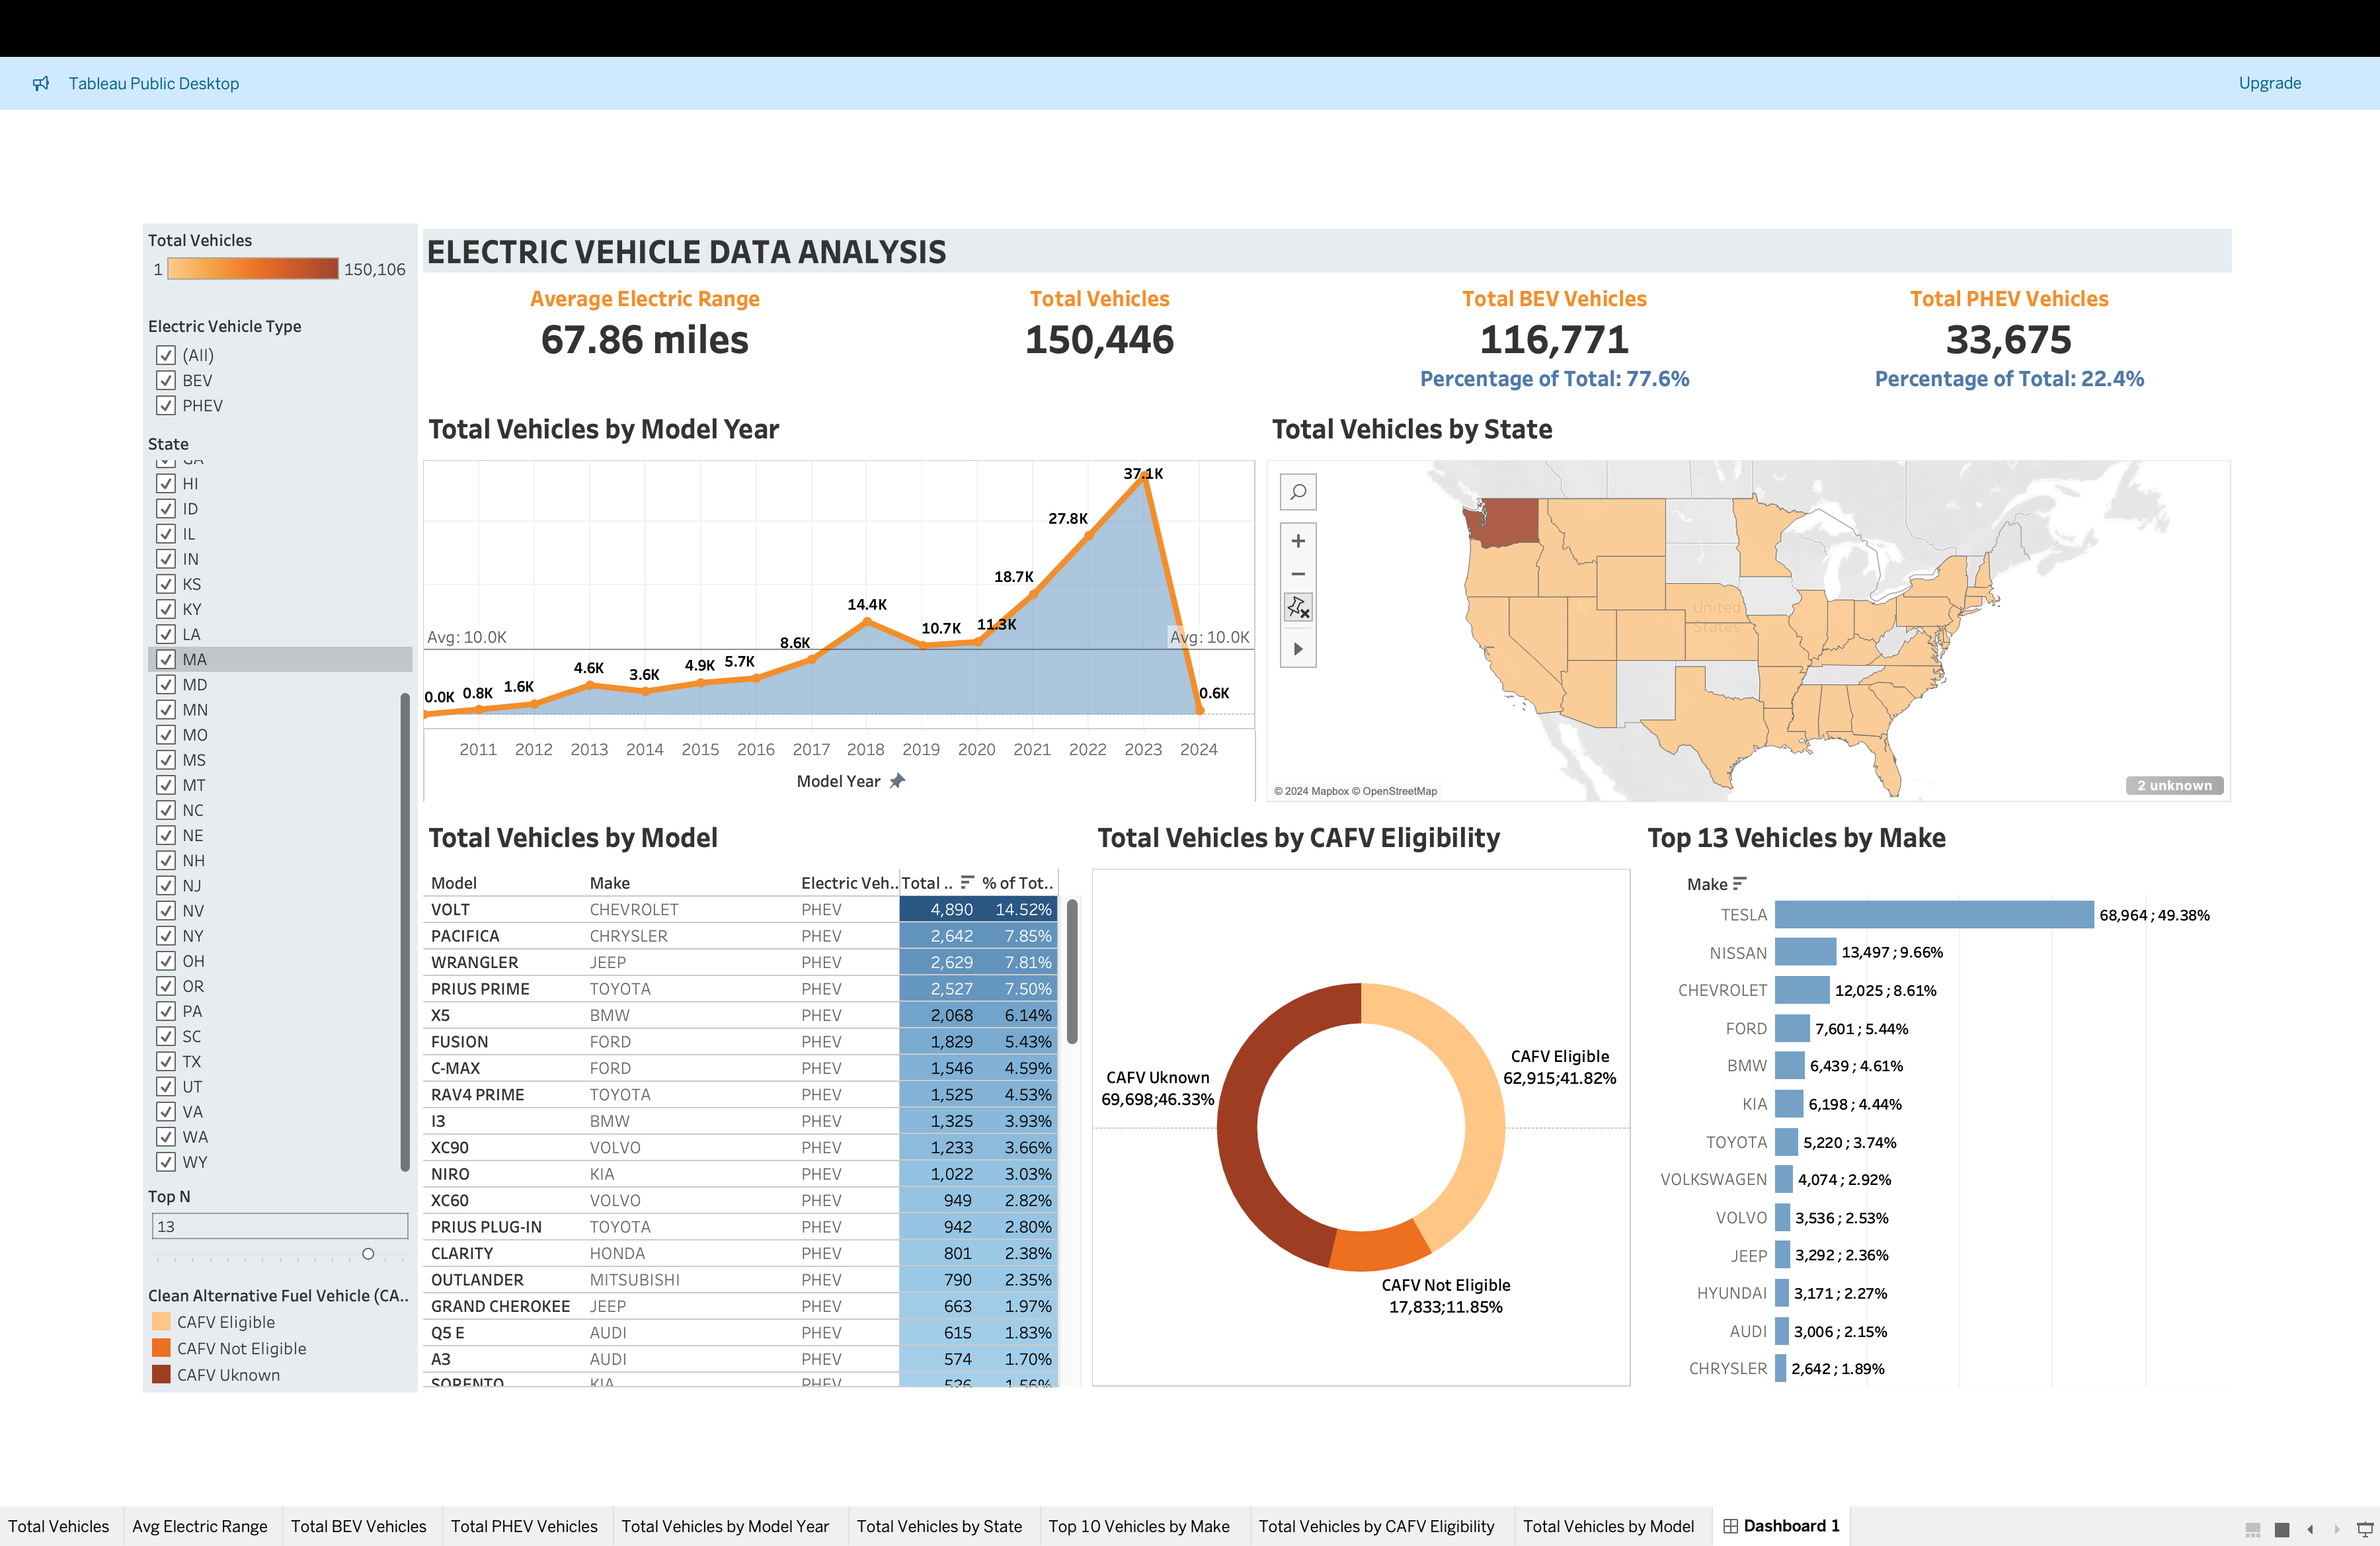

What the dashboard file says about the page in this screenshot:
{"tool":"tableau","page":{"name":"Dashboard 1","canvas":[1600,900],"ordinal":0},"visuals":[{"type":"legend","title":"Total Vehicles by State","param":"[federated.1nlnumq1s7noxl1czyt3a1d1x379].[usr:Calculation_4701687675969019904:qk","box":[8,8,208,65]},{"type":"title","box":[216,8,1376,41]},{"type":"worksheet","title":"Avg Electric Range","mark":"Automatic","box":[216,49,344,92]},{"type":"worksheet","title":"Total Vehicles","mark":"Automatic","box":[560,49,344,92]},{"type":"worksheet","title":"Total BEV Vehicles","mark":"Automatic","box":[904,49,344,92]},{"type":"worksheet","title":"Total PHEV Vehicles","mark":"Automatic","box":[1248,49,344,92]},{"type":"filter","title":"Top 10 Vehicles by Make ","param":"[federated.1nlnumq1s7noxl1czyt3a1d1x379].[none:Electric Vehicle Type:nk]","box":[8,73,208,89]},{"type":"worksheet","title":"Total Vehicles by Model Year","mark":"Area","rows":["Calculation_4701687675969019904","Calculation_4701687675969019904"],"cols":["Model Year"],"box":[216,141,638,309]},{"type":"worksheet","title":"Total Vehicles by State","mark":"Multipolygon","box":[854,141,738,309]},{"type":"filter","title":"Top 10 Vehicles by Make ","param":"[federated.1nlnumq1s7noxl1czyt3a1d1x379].[none:State:nk]","box":[8,162,208,569]},{"type":"worksheet","title":"Total Vehicles by Model","mark":"Square","rows":["Model","Make","Electric Vehicle Type"],"box":[216,450,506,442]},{"type":"worksheet","title":"Total Vehicles by CAFV Eligibility","mark":"Pie","rows":["Calculation_4701687675994034183","Calculation_4701687675994034183"],"box":[722,450,416,442]},{"type":"worksheet","title":"Top 10 Vehicles by Make ","mark":"Automatic","rows":["Make"],"cols":["Calculation_4701687675969019904"],"box":[1138,450,454,442]},{"type":"parameter","param":"[Parameters].[Parameter 1]","box":[8,731,208,75]},{"type":"legend","title":"Total Vehicles by CAFV Eligibility","param":"[federated.1nlnumq1s7noxl1czyt3a1d1x379].[none:Clean Alternative Fuel Vehicle (C","box":[8,806,208,86]}]}

Visuals, with their boxes on the page's 1600x900 design canvas (x1, y1, x2, y2). These are canvas units, not pixel positions in the 2380x1546 screenshot, which may show the page scaled, cropped or inside an application window:
"Total Vehicles by State" legend: {"left": 8, "top": 8, "right": 216, "bottom": 73}
title: {"left": 216, "top": 8, "right": 1592, "bottom": 49}
"Avg Electric Range" worksheet: {"left": 216, "top": 49, "right": 560, "bottom": 141}
"Total Vehicles" worksheet: {"left": 560, "top": 49, "right": 904, "bottom": 141}
"Total BEV Vehicles" worksheet: {"left": 904, "top": 49, "right": 1248, "bottom": 141}
"Total PHEV Vehicles" worksheet: {"left": 1248, "top": 49, "right": 1592, "bottom": 141}
"Top 10 Vehicles by Make " filter: {"left": 8, "top": 73, "right": 216, "bottom": 162}
"Total Vehicles by Model Year" worksheet (Area marks): {"left": 216, "top": 141, "right": 854, "bottom": 450}
"Total Vehicles by State" worksheet (Multipolygon marks): {"left": 854, "top": 141, "right": 1592, "bottom": 450}
"Top 10 Vehicles by Make " filter: {"left": 8, "top": 162, "right": 216, "bottom": 731}
"Total Vehicles by Model" worksheet (Square marks): {"left": 216, "top": 450, "right": 722, "bottom": 892}
"Total Vehicles by CAFV Eligibility" worksheet (Pie marks): {"left": 722, "top": 450, "right": 1138, "bottom": 892}
"Top 10 Vehicles by Make " worksheet: {"left": 1138, "top": 450, "right": 1592, "bottom": 892}
parameter: {"left": 8, "top": 731, "right": 216, "bottom": 806}
"Total Vehicles by CAFV Eligibility" legend: {"left": 8, "top": 806, "right": 216, "bottom": 892}
